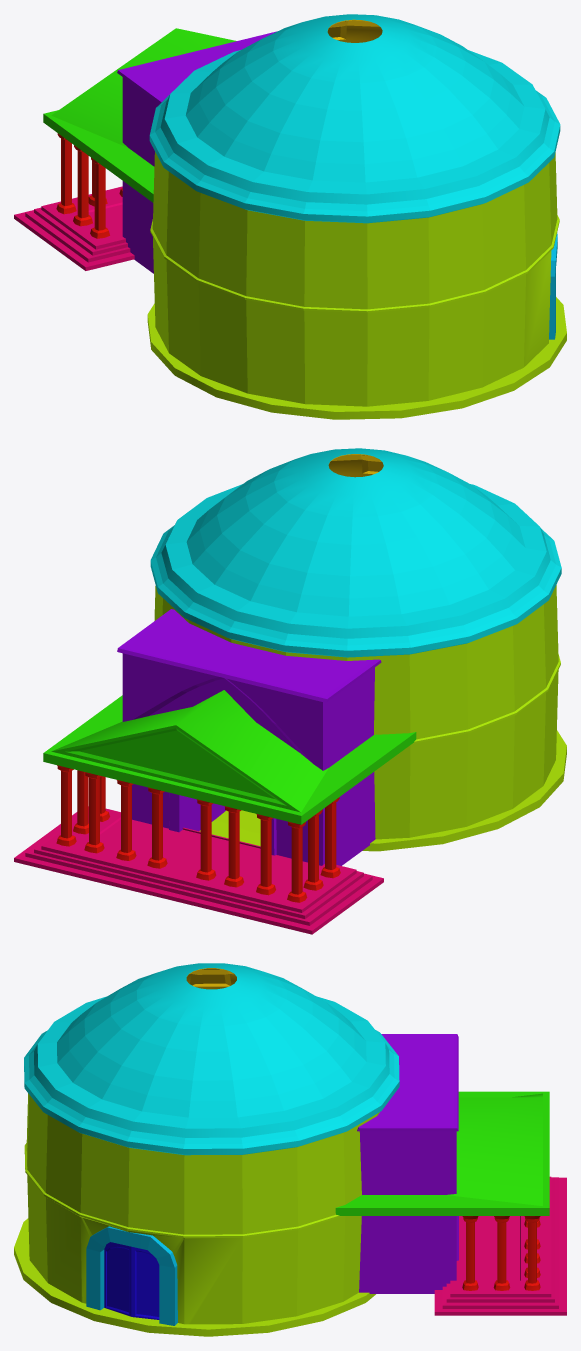
File: pantheon_export.fbx
The picture shows the model from 3 angles, top to bottom: view 1: azimuth 30°, elevation 25°; view 2: azimuth 150°, elevation 25°; view 3: azimuth 270°, elevation 25°; orthographic projection. The views are drawn at different scales.
Visible parts, largest first — view 1: exterior_outsidewall, exterior_skylight, exterior_roof, entrance_walls, floor, entrance_floor, interior_skylight, column.010, column.011, column.009, doorway_arch; view 2: exterior_skylight, exterior_outsidewall, entrance_walls, exterior_roof, entrance_floor, floor, column.009, interior_skylight, column.006, column.007, column.008, column.011 (+6 smaller); view 3: exterior_skylight, exterior_outsidewall, entrance_walls, exterior_roof, entrance_floor, floor, doorway_arch, door_1, door_2, interior_skylight, column.001, column.000 (+1 smaller).
Boxes of the visible parts, box(x1,y1,x2,y2) form: exterior_outsidewall: box(150, 152, 559, 406); exterior_skylight: box(149, 14, 560, 223); exterior_roof: box(43, 28, 236, 202); entrance_walls: box(117, 31, 276, 273); floor: box(147, 297, 566, 419); entrance_floor: box(14, 186, 134, 270); interior_skylight: box(327, 19, 382, 42); column.010: box(73, 145, 92, 226); column.011: box(90, 157, 109, 238); column.009: box(56, 133, 76, 214); doorway_arch: box(549, 233, 557, 339); exterior_skylight: box(150, 448, 561, 657); exterior_outsidewall: box(154, 585, 560, 839); entrance_walls: box(117, 609, 381, 865); exterior_roof: box(43, 690, 416, 824); entrance_floor: box(14, 806, 383, 934); floor: box(215, 730, 566, 851); column.009: box(287, 821, 307, 902); interior_skylight: box(328, 454, 383, 477); column.006: box(196, 799, 216, 880); column.007: box(224, 806, 243, 887); column.008: box(256, 814, 275, 895); column.011: box(320, 797, 340, 878); exterior_skylight: box(24, 963, 399, 1155); exterior_outsidewall: box(24, 1093, 379, 1324); entrance_walls: box(357, 1034, 458, 1293); exterior_roof: box(335, 1091, 549, 1215); entrance_floor: box(434, 1176, 566, 1315); floor: box(14, 1218, 375, 1336); doorway_arch: box(86, 1226, 177, 1325); door_1: box(104, 1242, 131, 1316); door_2: box(132, 1247, 159, 1319); interior_skylight: box(186, 968, 236, 989); column.001: box(493, 1216, 510, 1290); column.000: box(462, 1216, 478, 1290).
Size of the model in its own units: 2495 by 1950 by 3546.
